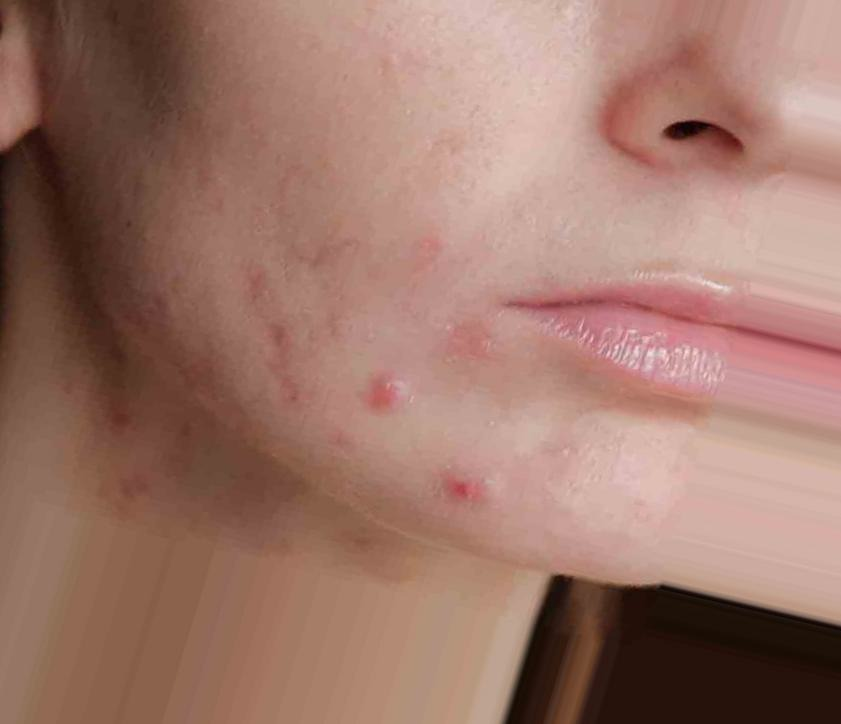Acne: (76, 192, 559, 551)
